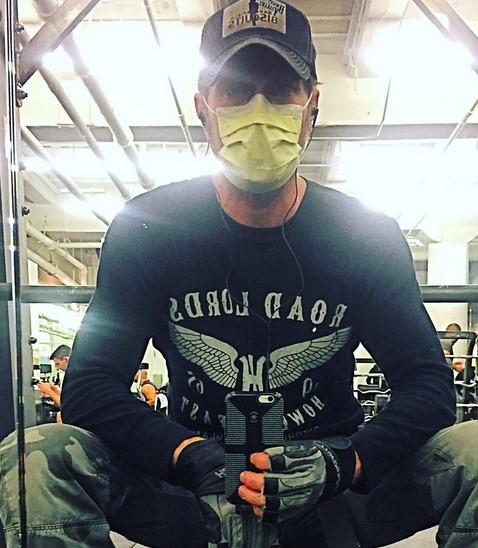face_with_mask: (192, 1, 318, 197)
